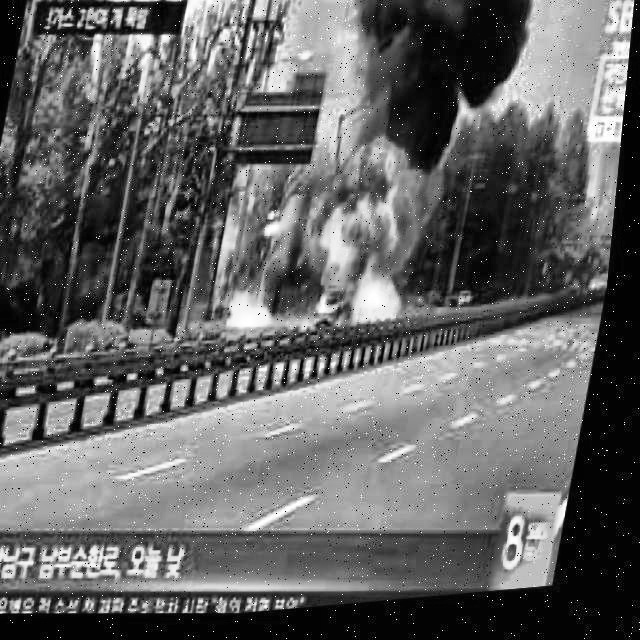Fire: (306, 190, 434, 293), (341, 149, 417, 205), (348, 285, 419, 332), (235, 294, 287, 336)
Smoke: (298, 0, 547, 175)
